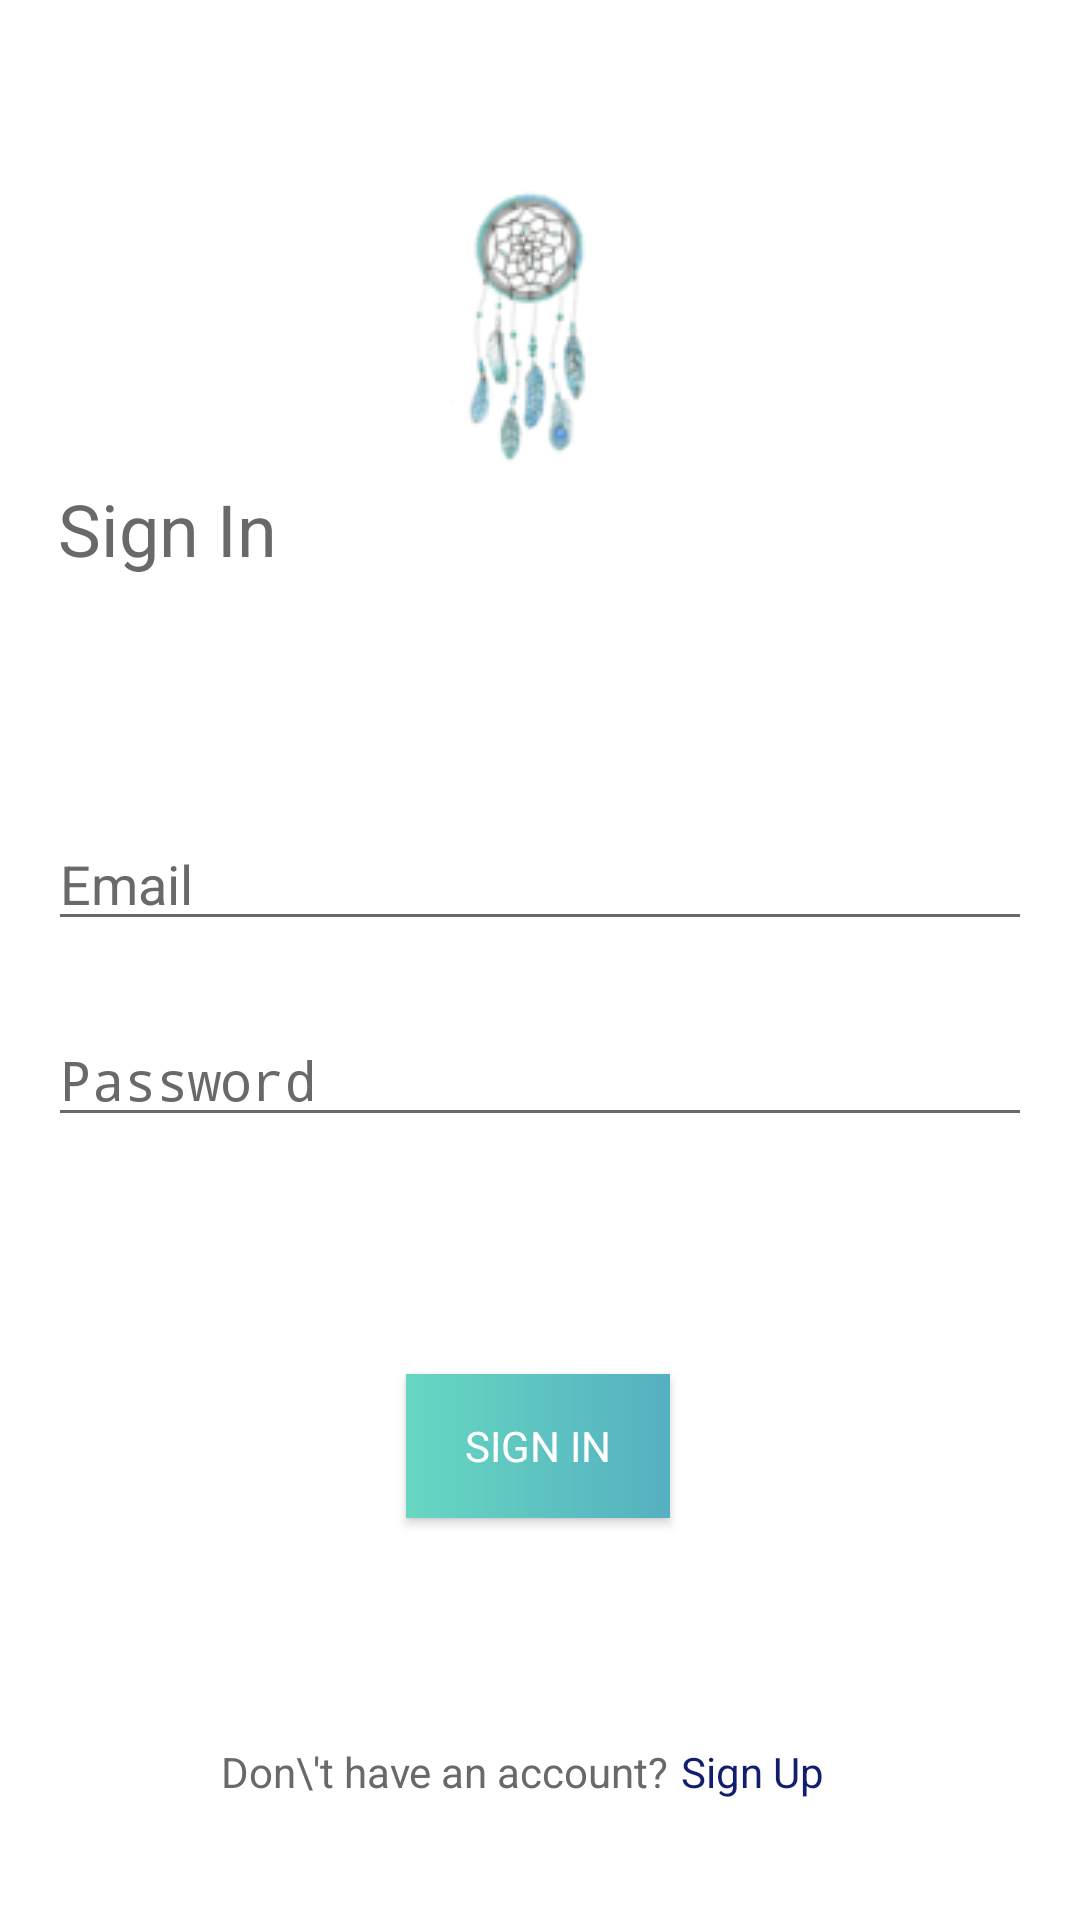

Icon click points for this 1080x1920 phone screenshot, format [x,y]:
dreamcatcher sm: [528,326]
